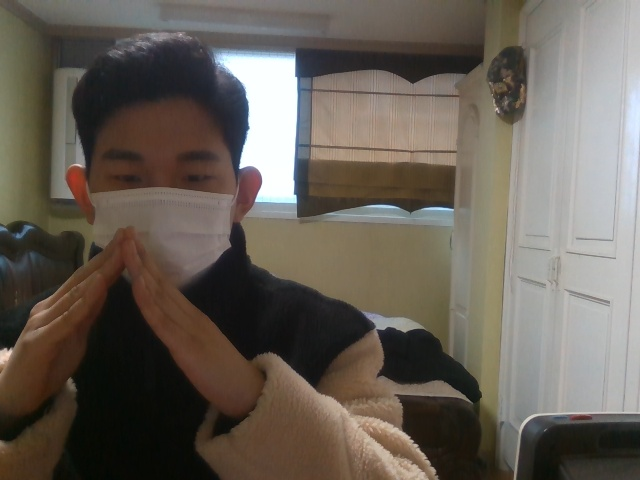HOME: (1, 225, 257, 413)
